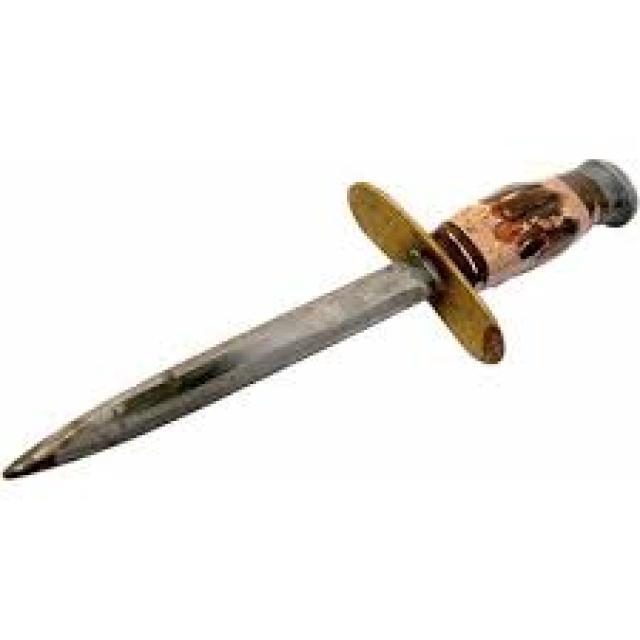Gun: (10, 49, 636, 528)
